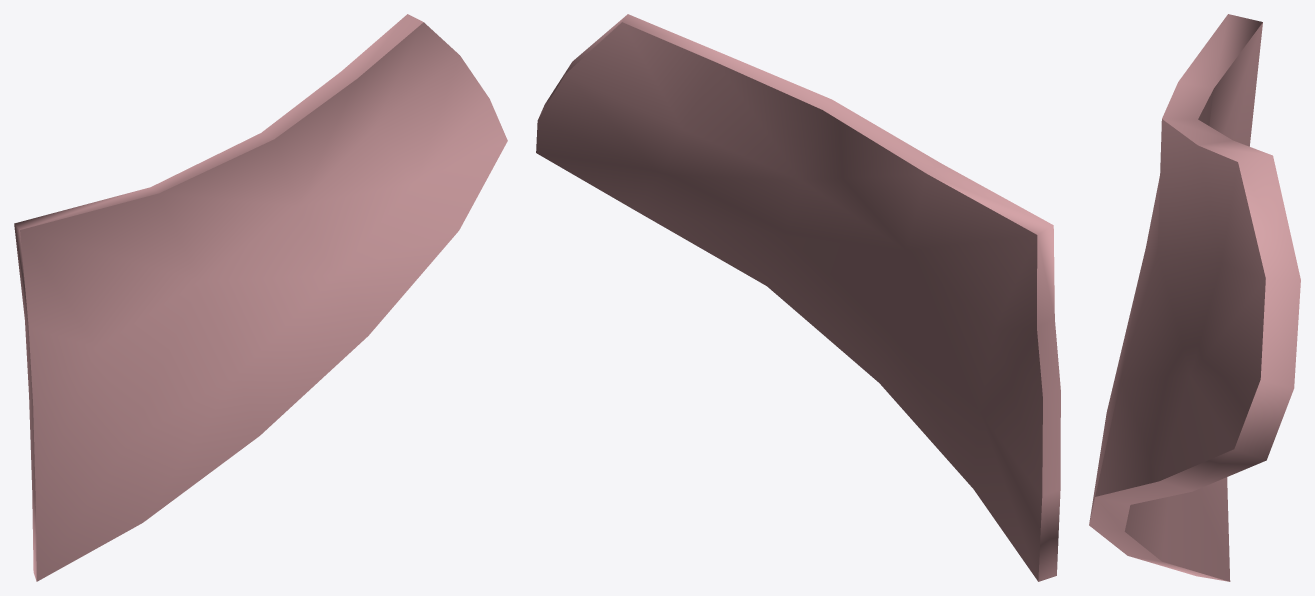
3 views of the same model, side by side, from view 1: azimuth 30°, elevation 25°; view 2: azimuth 150°, elevation 25°; view 3: azimuth 270°, elevation 25° (orthographic). The views are drawn at different scales.
Visible parts, largest first — view 1: ZA_e0f76c42a6f6a16d; view 2: ZA_e0f76c42a6f6a16d; view 3: ZA_e0f76c42a6f6a16d.
Boxes of the visible parts, bbox=[...] form: ZA_e0f76c42a6f6a16d: bbox=[14, 14, 507, 581]; ZA_e0f76c42a6f6a16d: bbox=[536, 14, 1060, 581]; ZA_e0f76c42a6f6a16d: bbox=[1089, 14, 1300, 581].
Size of the model in its own units: 0.0749 by 0.0663 by 0.0175.
